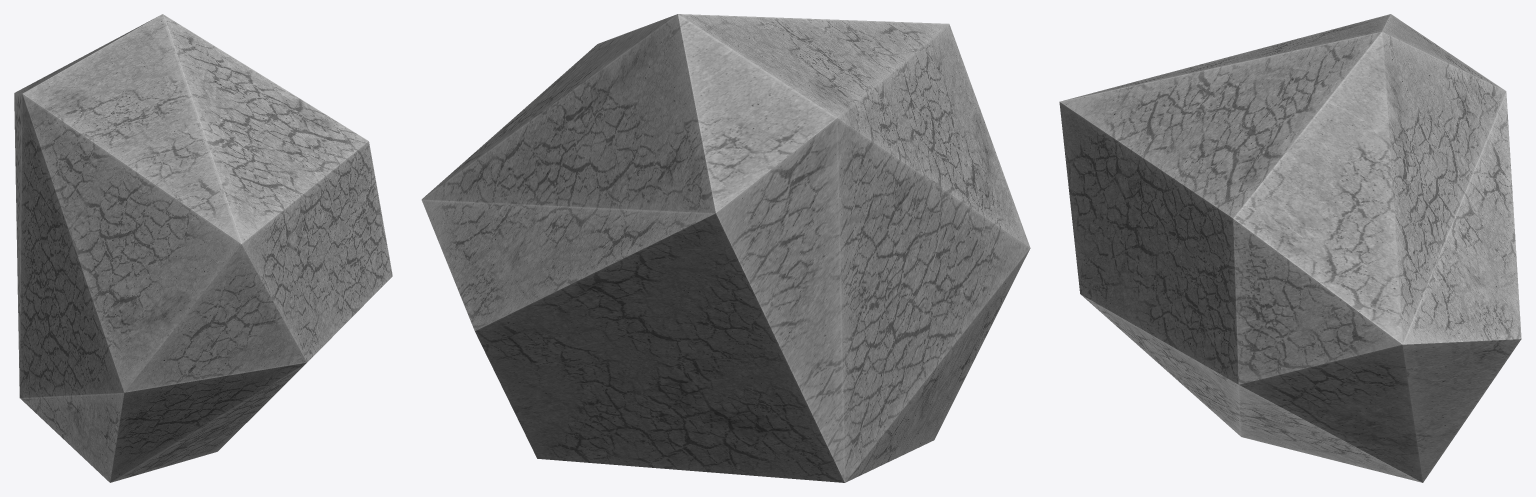
Rendered from SmallAsteroid.obj.
3 renders of one model, left to right at view 1: azimuth 30°, elevation 25°; view 2: azimuth 150°, elevation 25°; view 3: azimuth 270°, elevation 25°, orthographic. The views are drawn at different scales.
Visible parts, largest first — view 1: Small_Asteroid_Mesh.002; view 2: Small_Asteroid_Mesh.002; view 3: Small_Asteroid_Mesh.002.
Part boxes in pixels (x1,y1,x2,y2): Small_Asteroid_Mesh.002: (14, 14, 392, 482); Small_Asteroid_Mesh.002: (421, 14, 1030, 482); Small_Asteroid_Mesh.002: (1059, 14, 1521, 482).
Bounding box in the file's own units: 0.3754 × 0.3777 × 0.3848.
